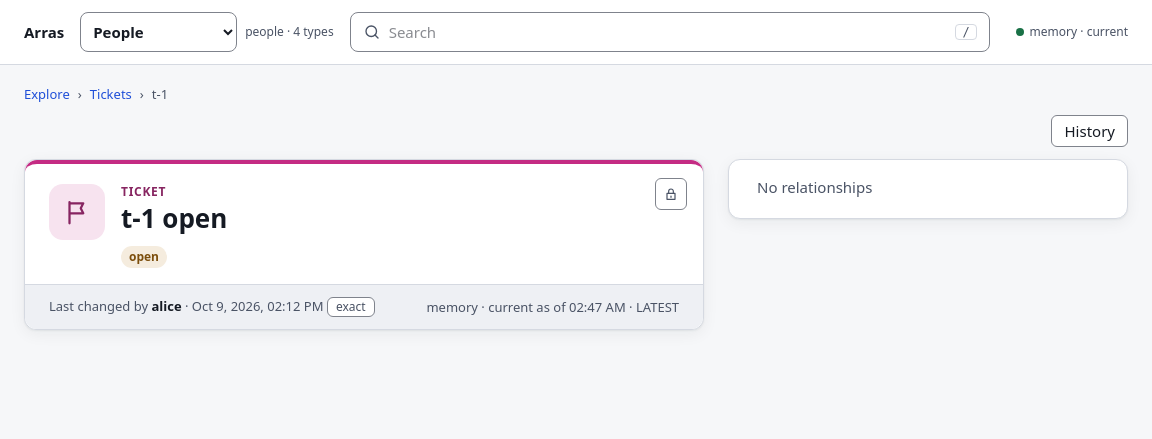
Test: header pencils on a module that is not the catalog › opens the summary editor without invalid DOM nesting
This screenshot has width=1152, height=439.
Click the button named "Edit mode" at (671, 194), box left=655, top=178, right=687, bottom=210
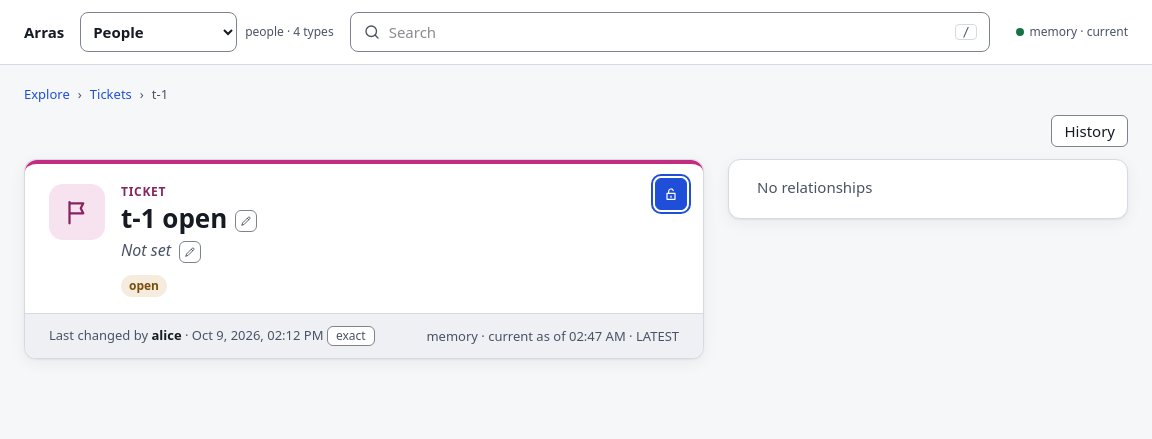
Click the button named "Edit Body" at (190, 252), box left=179, top=241, right=201, bottom=263
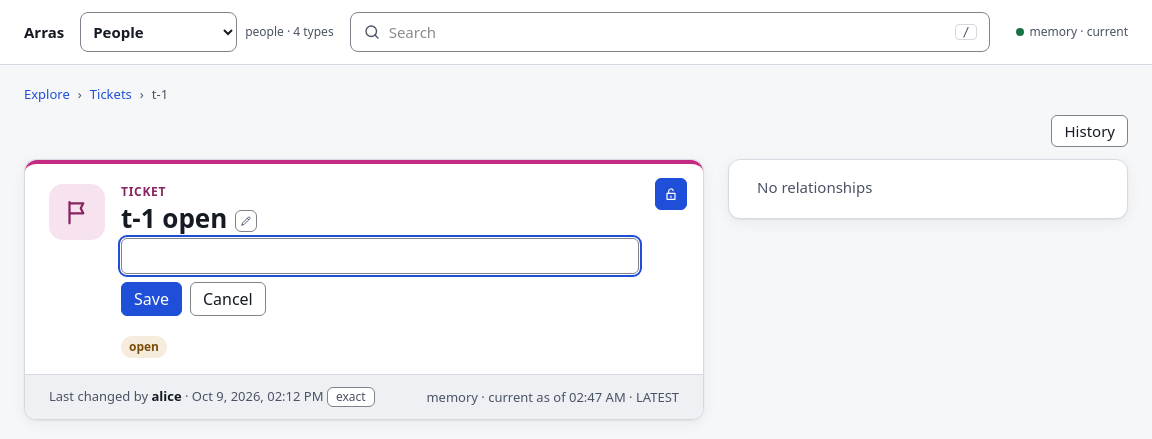
Check: the field named "Body" is shown, box left=121, top=238, right=639, bottom=274
